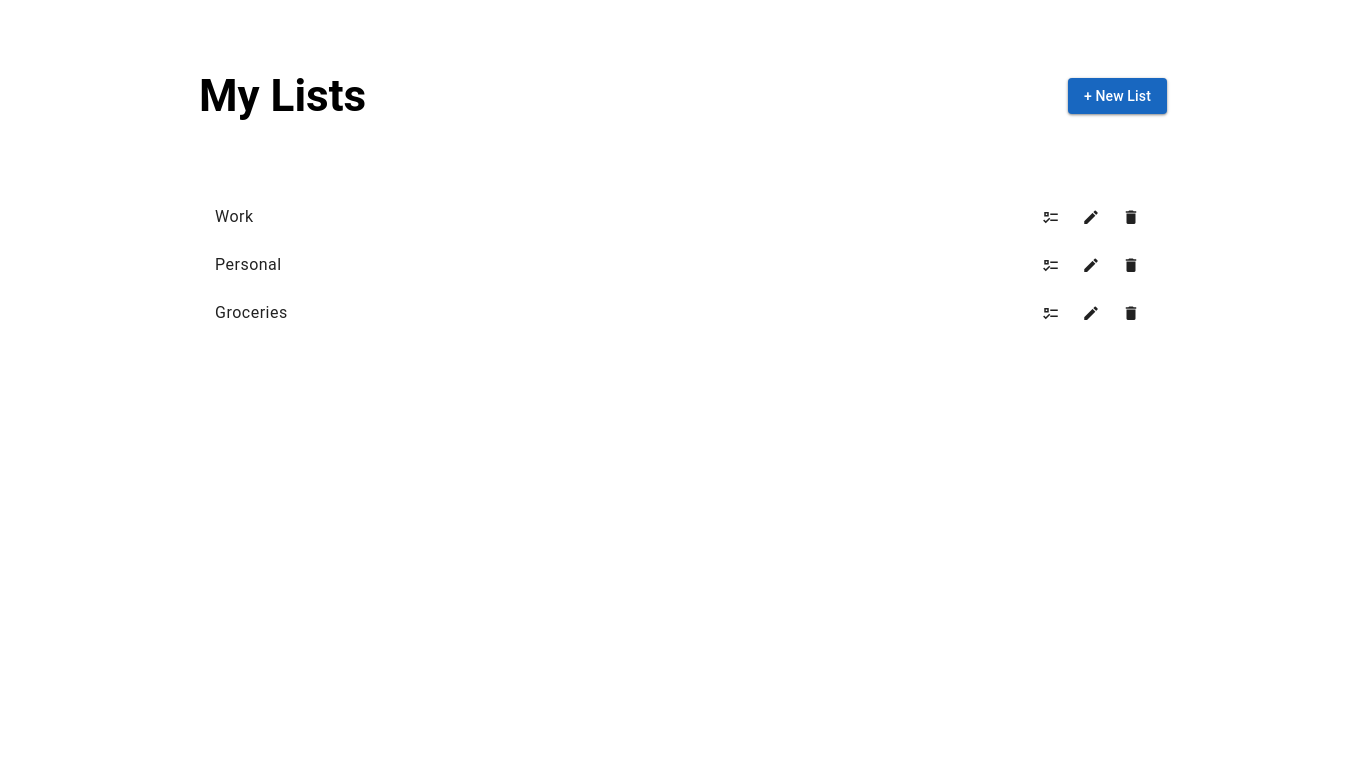
Test: Feature 3 — Dashboard items dialogs › US-3.1 — Add tasks to a list › User adds a todo with an empty title
Click the button named "View items for Groceries". click: (1051, 313)
box: [1031,293,1071,333]
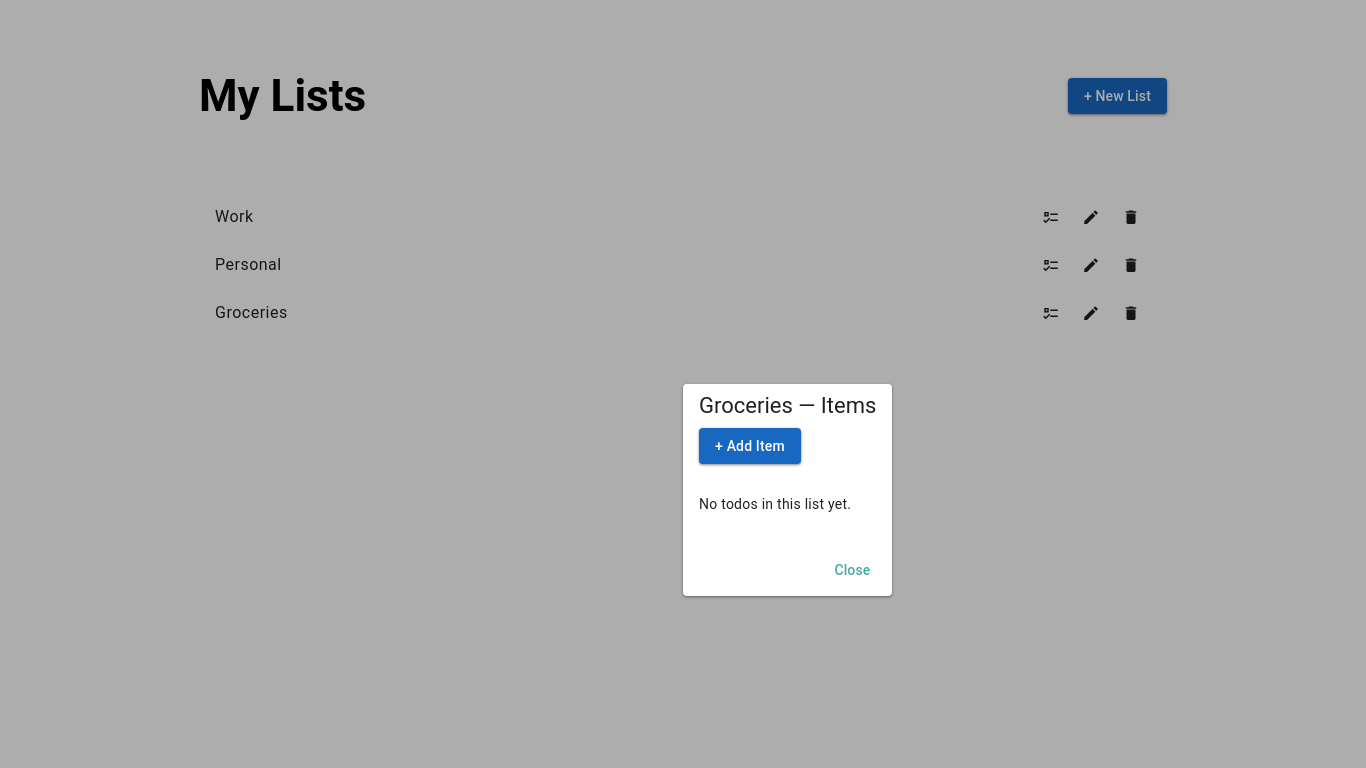
expect the button "+ Add Item" is shown: met
Click the button "+ Add Item". click: (750, 446)
box: [699,428,801,464]
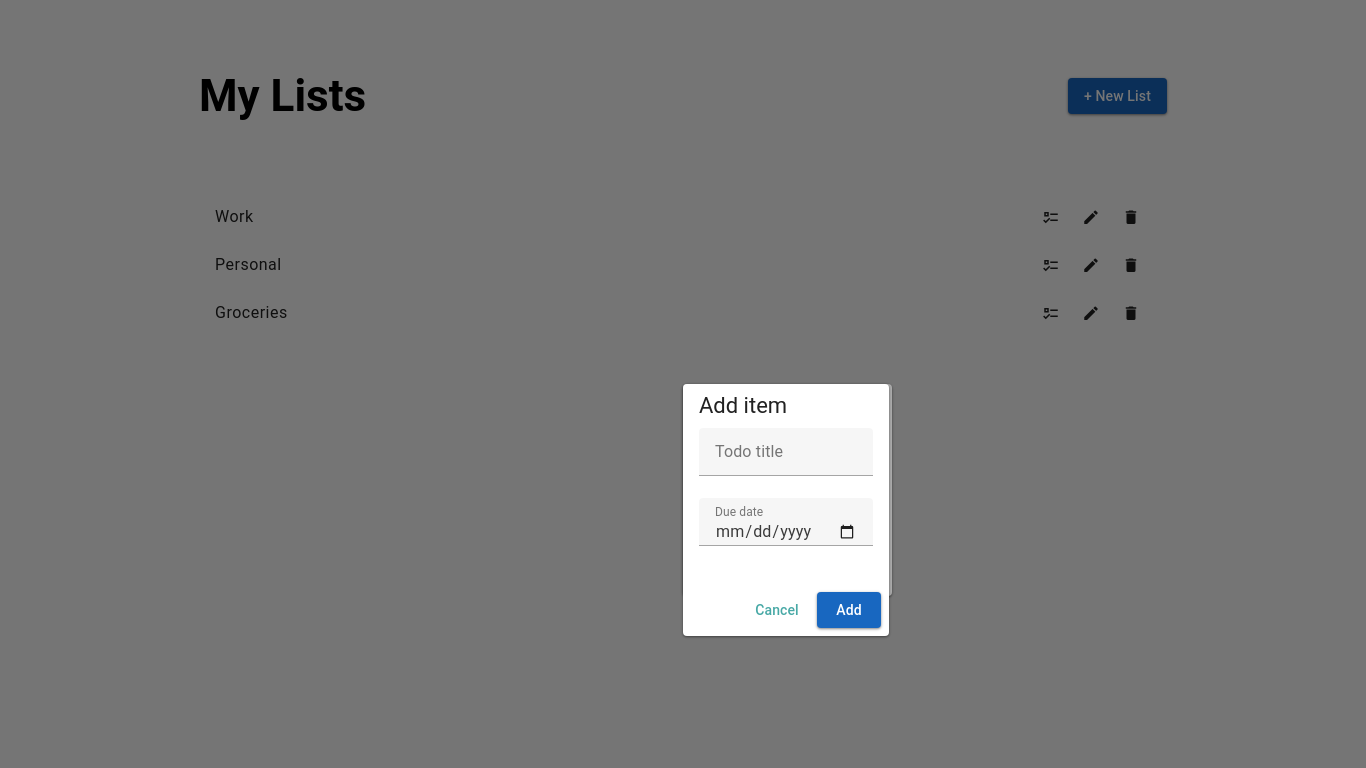
expect the button "Add" is shown: met
Click the button "Add". click: (849, 610)
box: [817,592,881,628]
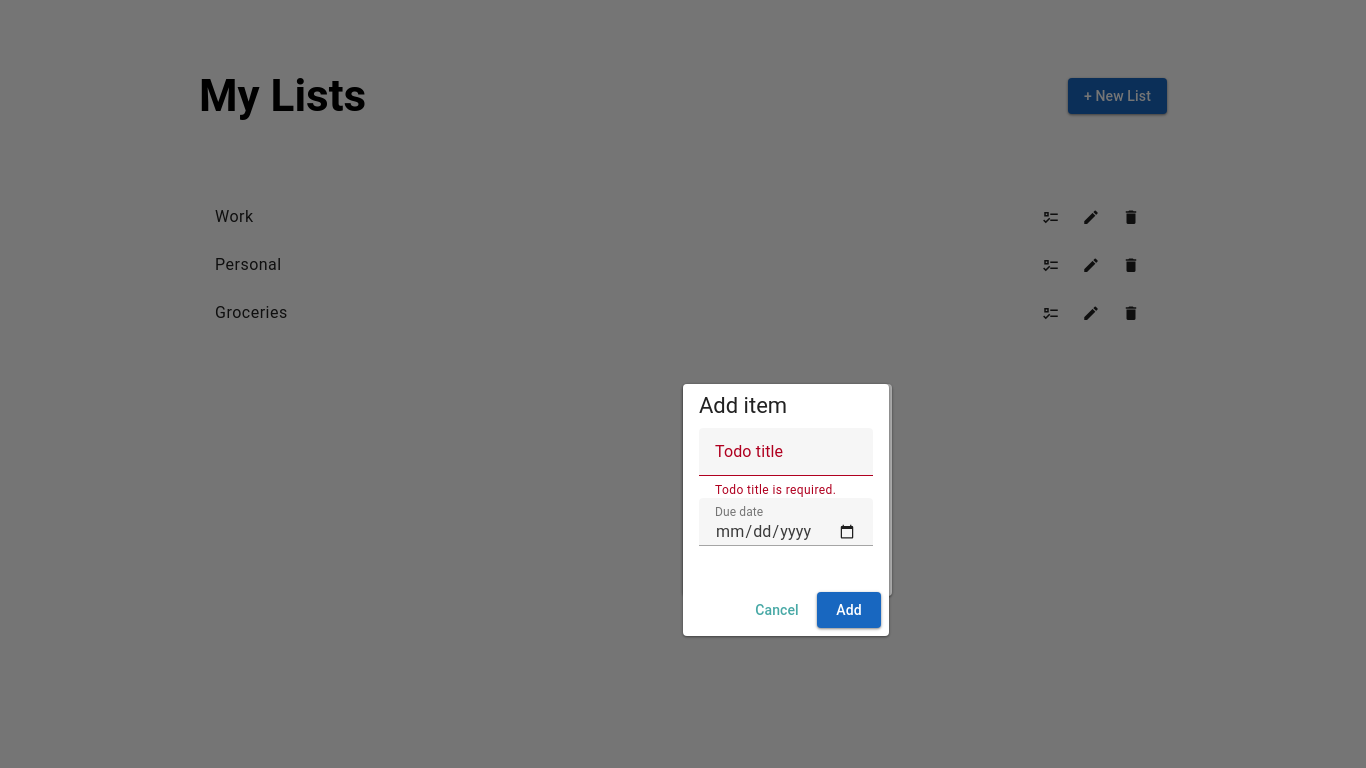
expect the text "Todo title is required." is shown: met, box [715,484,857,496]
